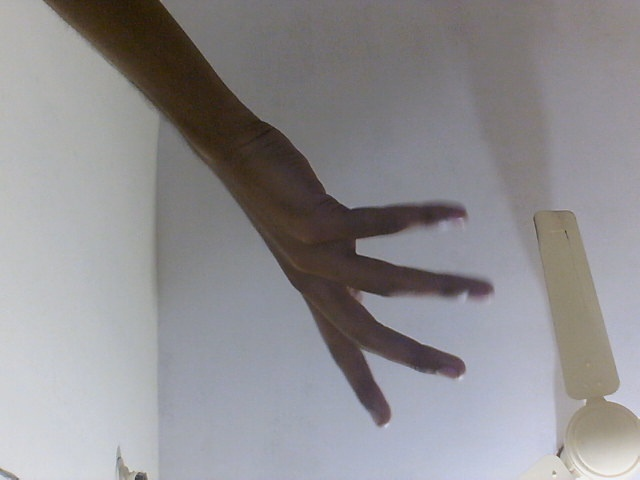hand: (163, 118, 500, 431)
